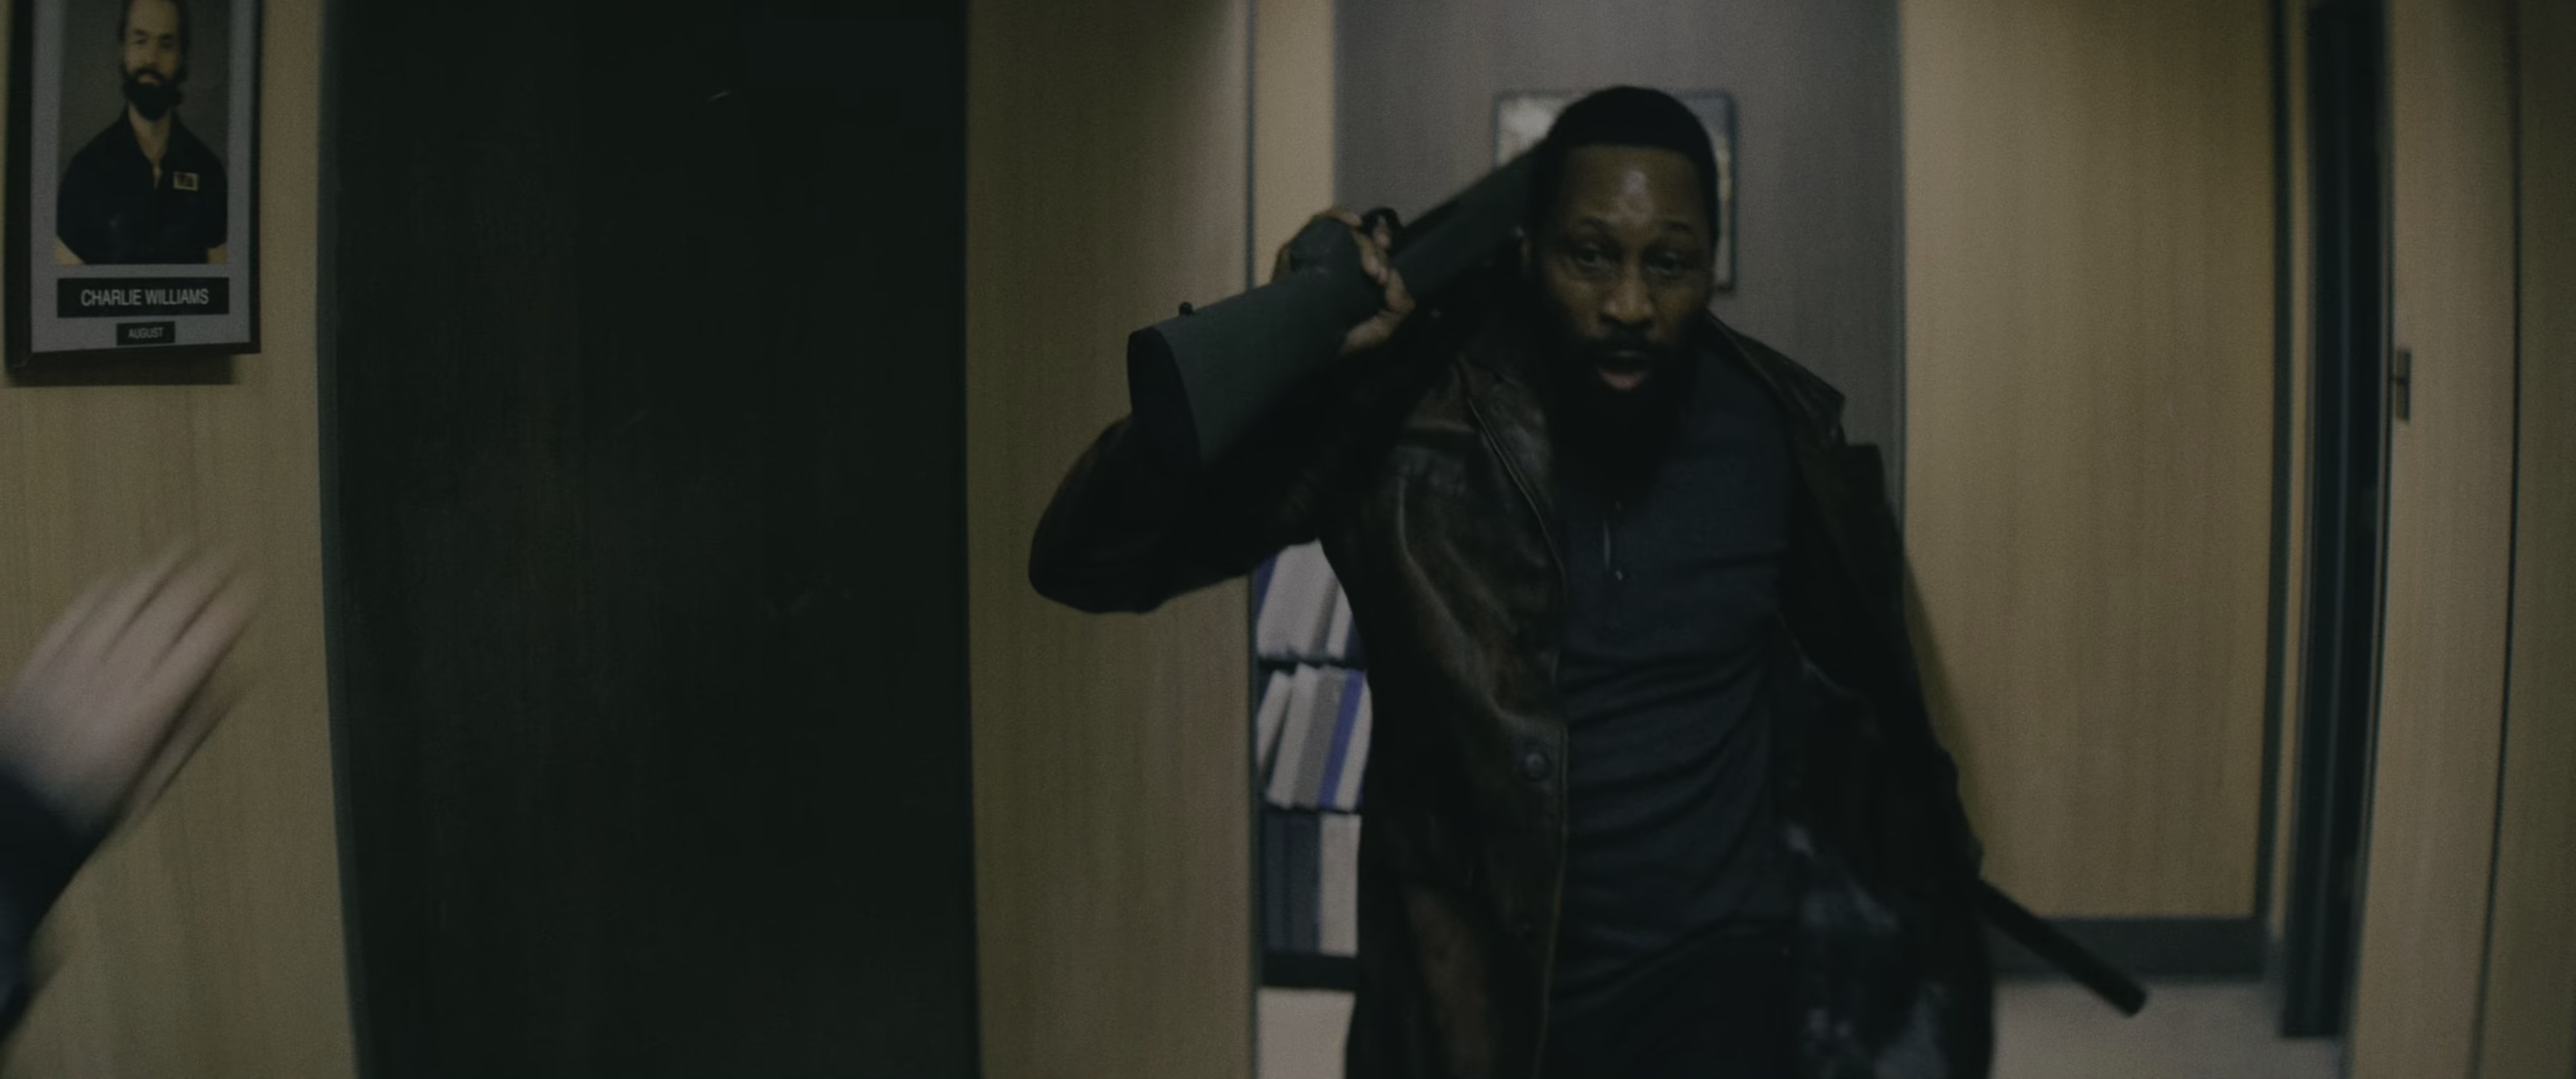gun: (1122, 123, 1557, 507)
p_w_gun: (1025, 80, 1999, 1077)
